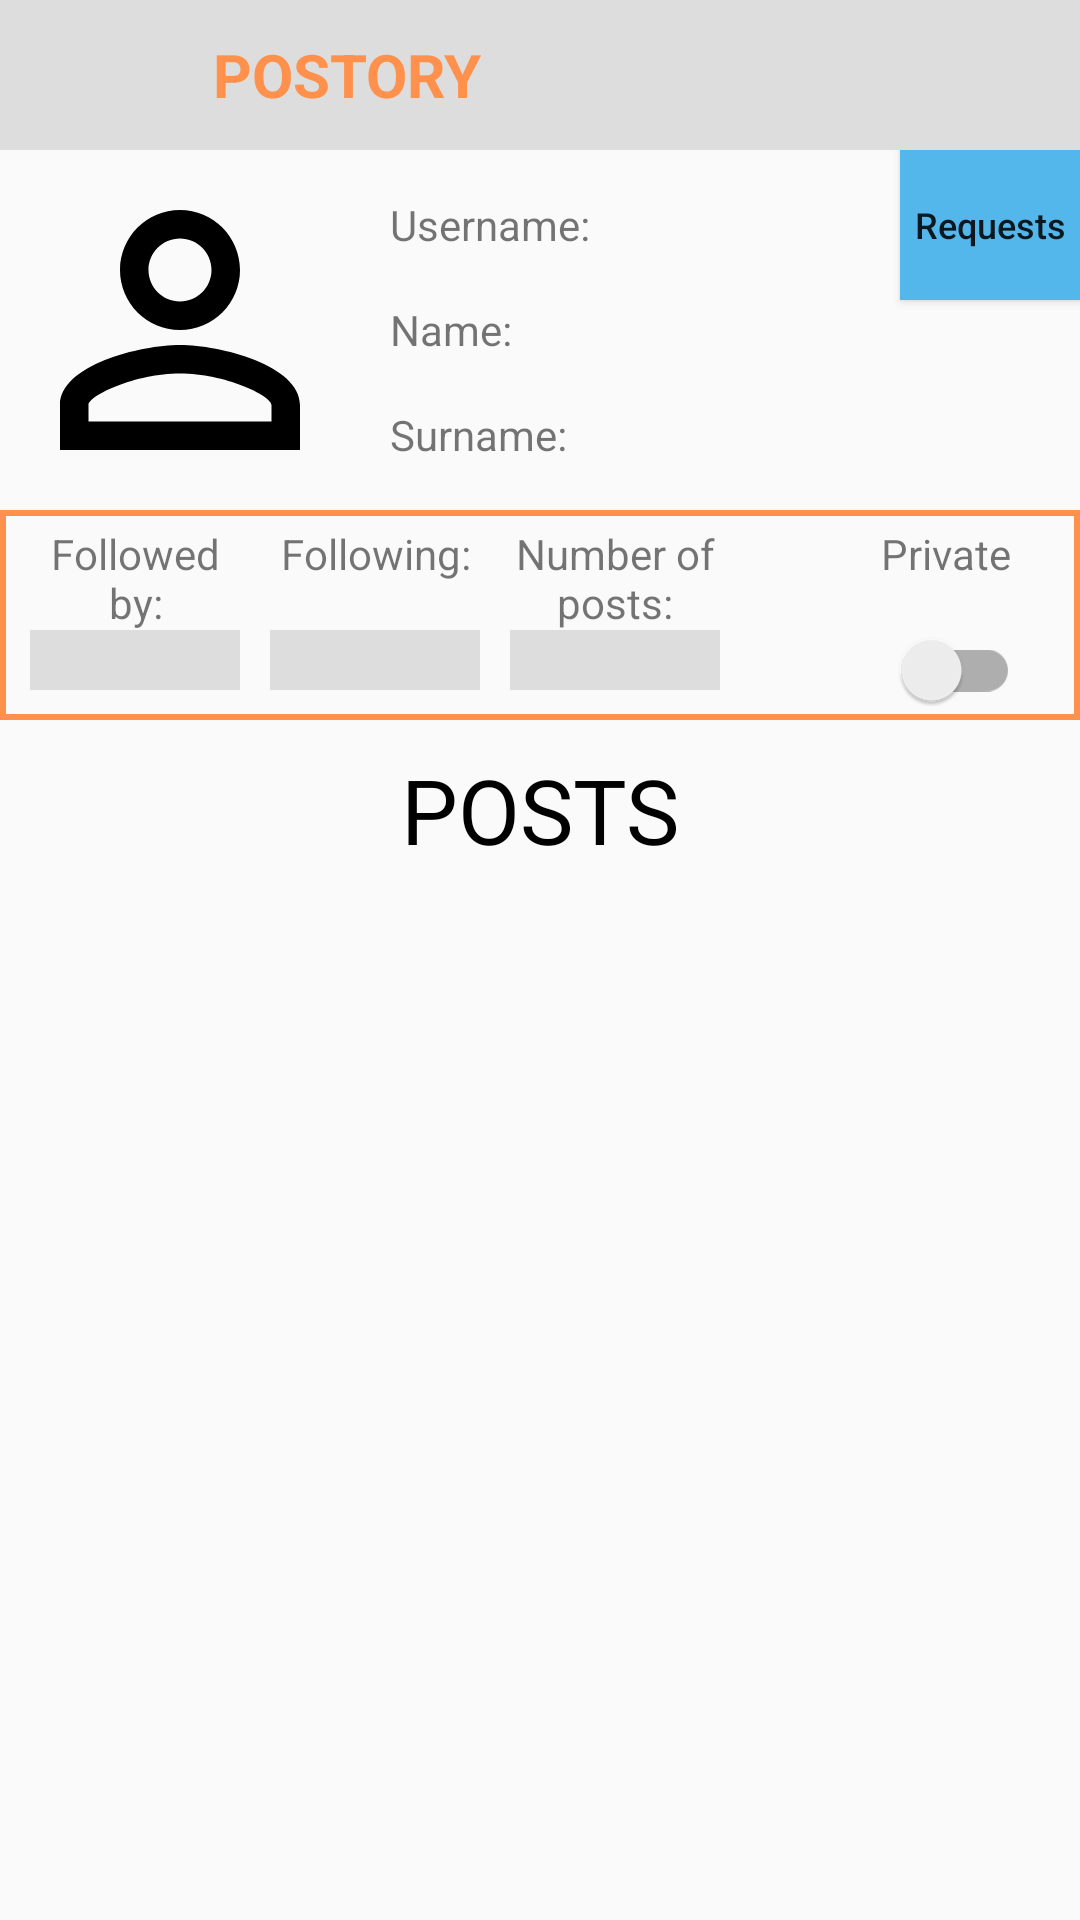

Icons on this 1080*1920 Android screen, each with the point to tap as [x,y]:
person: [180,330]
